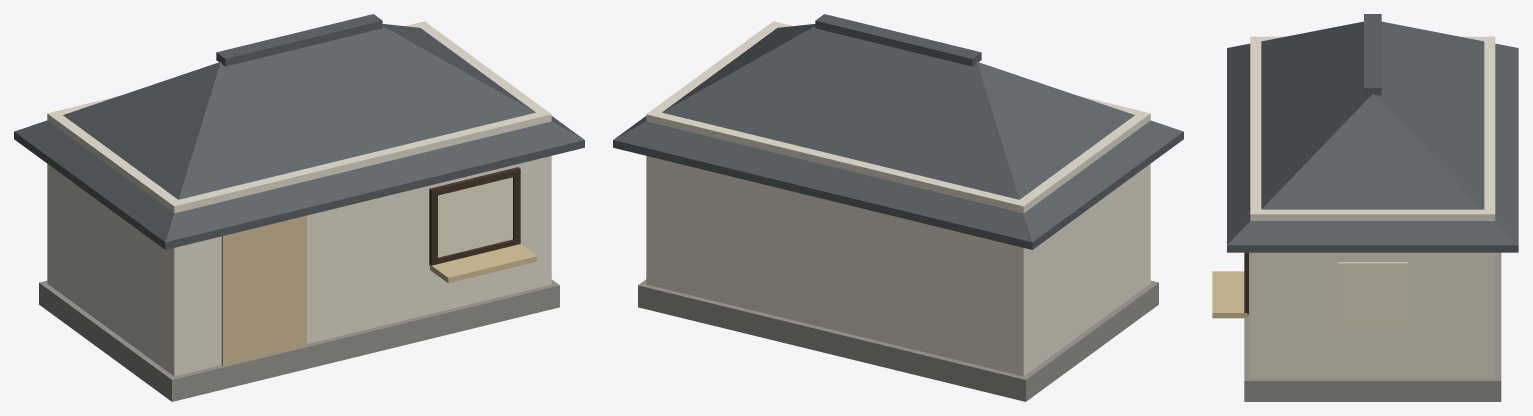
File: shamusho.glb
3 renders of one model, left to right at view 1: azimuth 30°, elevation 25°; view 2: azimuth 150°, elevation 25°; view 3: azimuth 270°, elevation 25°, orthographic. The views are drawn at different scales.
Parts seen in each view (by area): view 1: shamusho; view 2: shamusho; view 3: shamusho.
Boxes of the visible parts, x1,y1,x2,y2 form: shamusho: (14, 14, 584, 401); shamusho: (613, 14, 1183, 401); shamusho: (1212, 14, 1518, 401).
Size of the model in its own units: 8 by 4.91 by 5.25.
